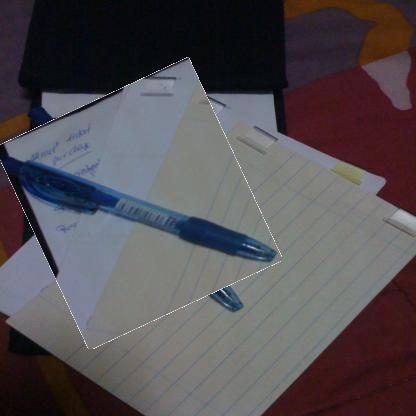Pen: (14, 75, 264, 333)
